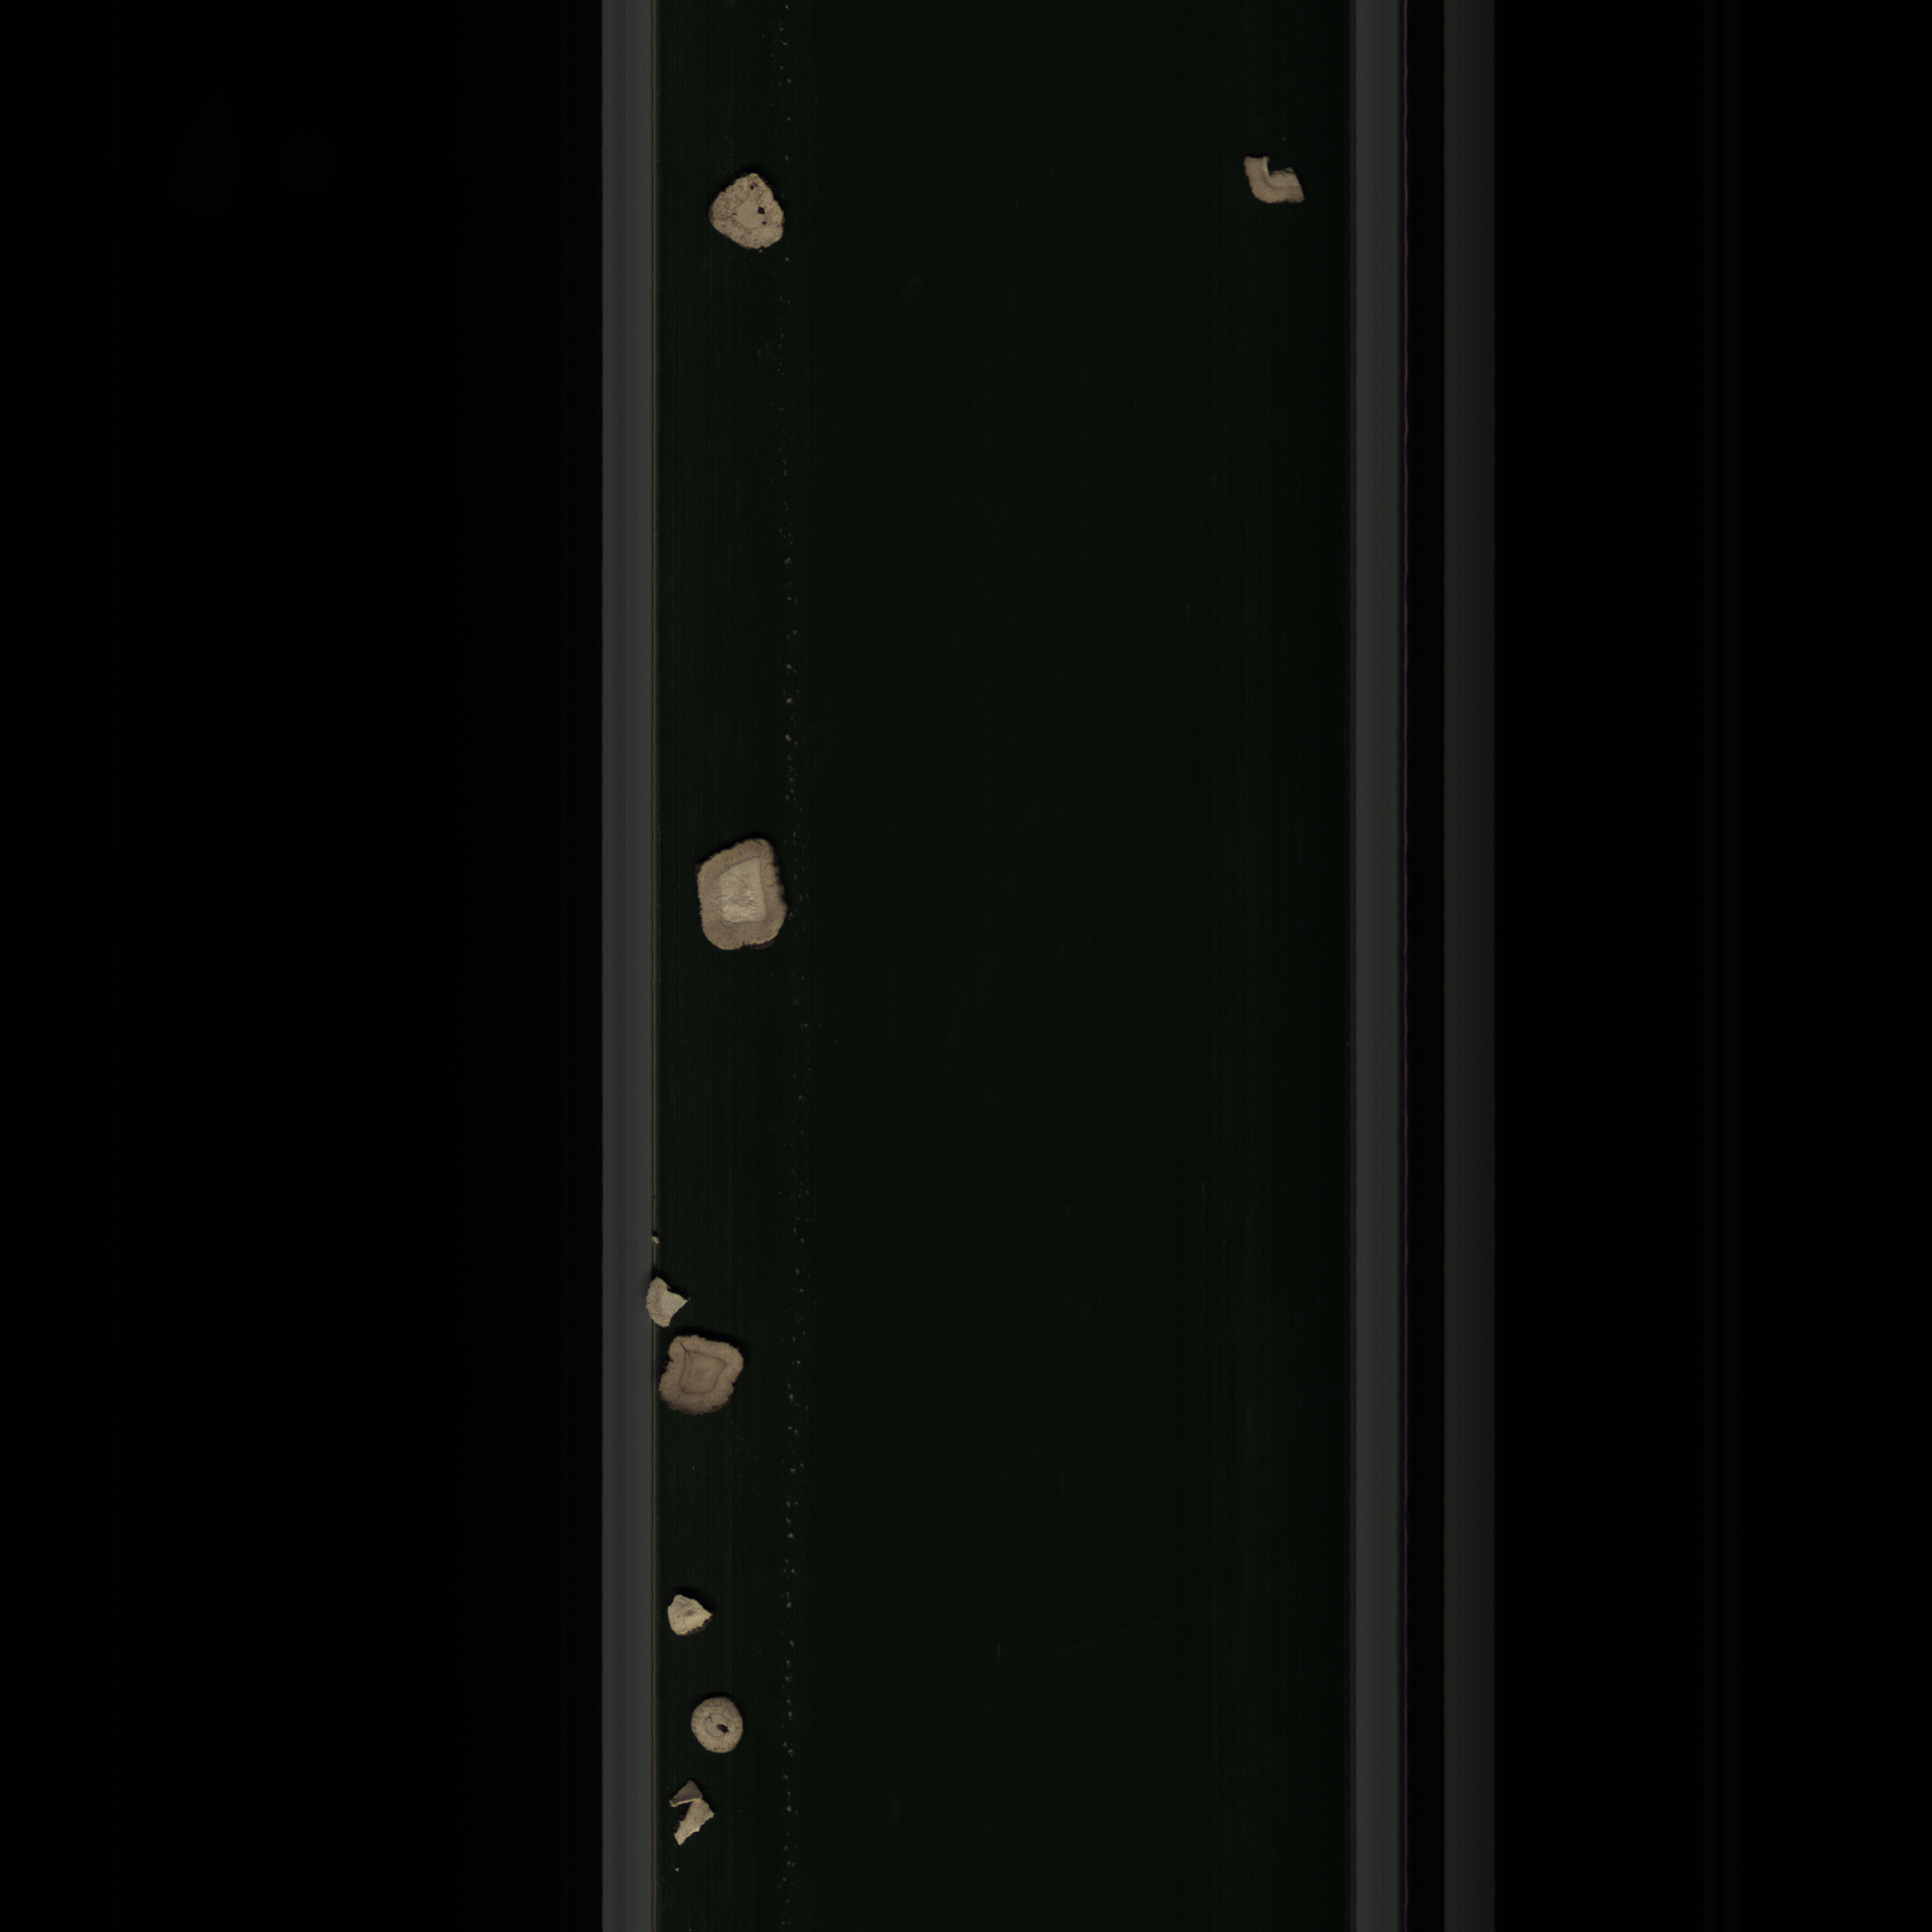debris: (1235, 147, 1309, 212), (656, 1775, 722, 1845), (663, 1587, 717, 1644), (640, 1274, 690, 1334)
hole: (706, 161, 803, 265), (685, 1693, 748, 1766)
moldy: (662, 1329, 763, 1421)
